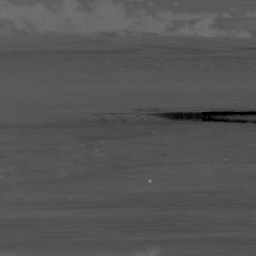Target: (146, 178, 153, 185)
